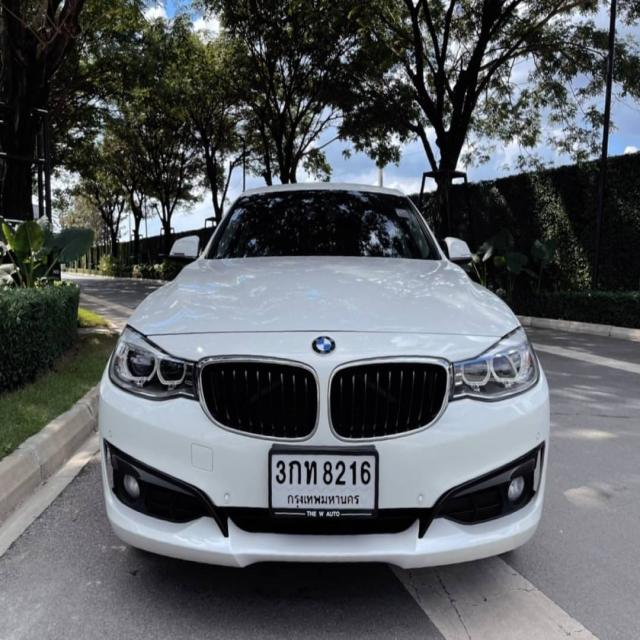license_plate: (266, 438, 384, 523)
